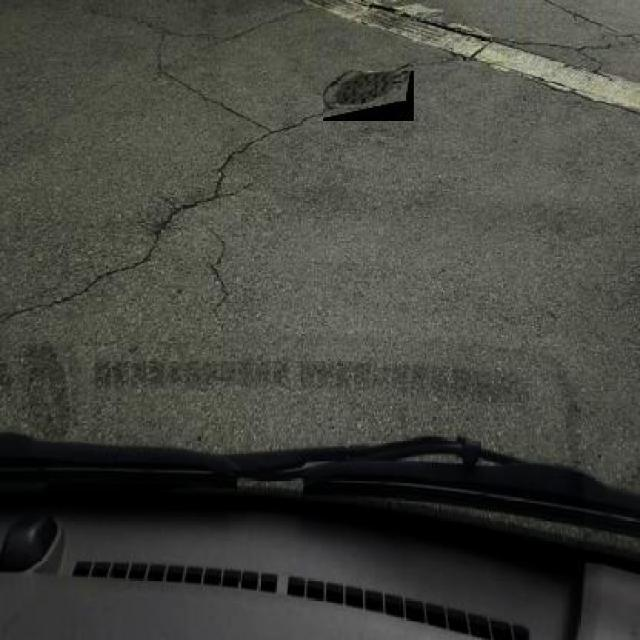Manhole: (323, 71, 414, 120)
